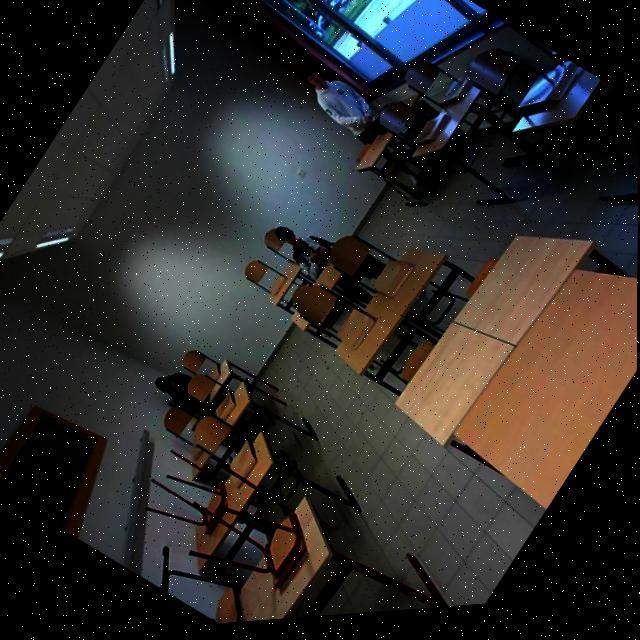phone_use: (154, 350, 217, 432), (263, 225, 332, 278)
